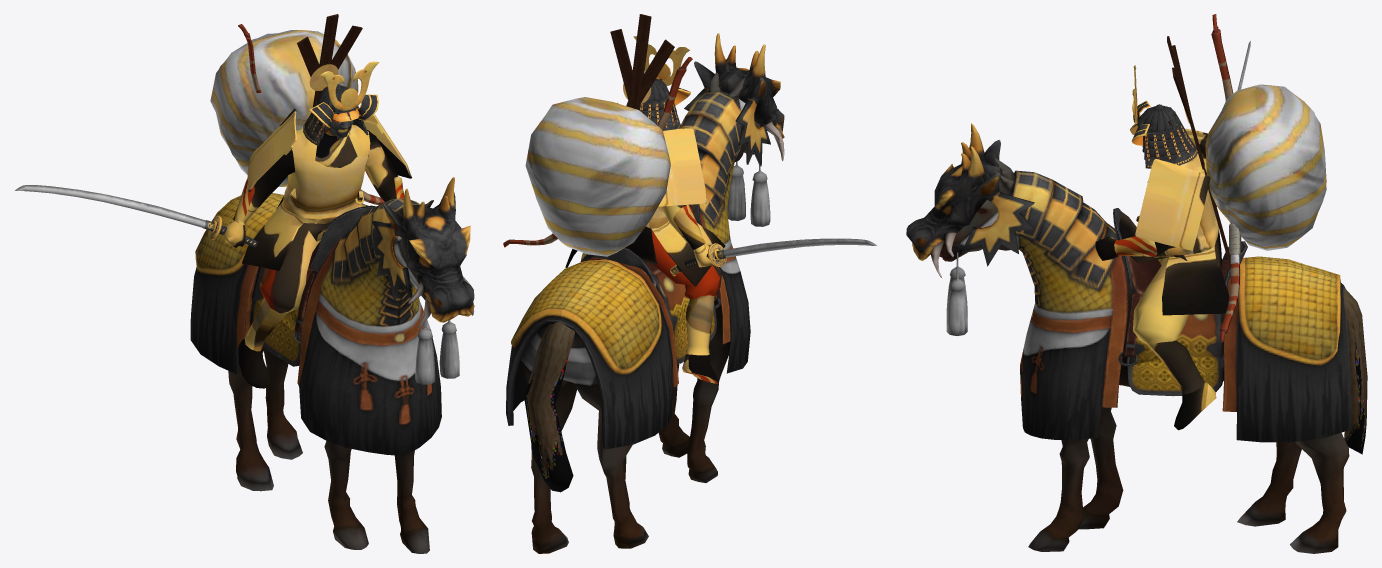
File: 274-shogun.glb
3 views of the same model, side by side, from view 1: azimuth 30°, elevation 25°; view 2: azimuth 150°, elevation 25°; view 3: azimuth 270°, elevation 25° (orthographic). The views are drawn at different scales.
Size of the model in its own units: 2.8 by 3.34 by 2.81.
6 materials, 6 textured.
